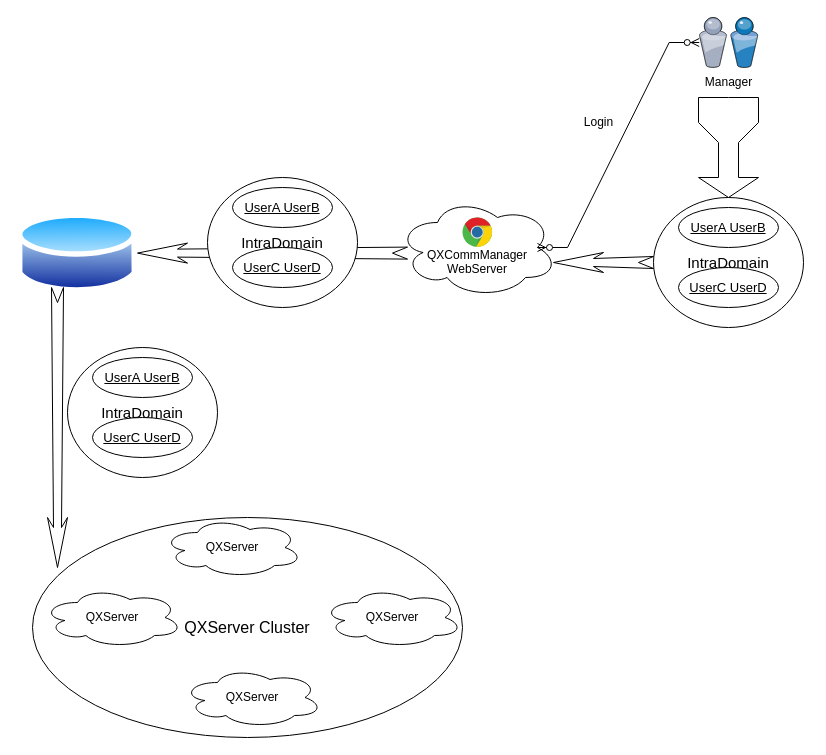
Image size: 826x755. Some labels were removed from this diagram. The centre of each missing label's shape, as x and y in pixels:
create intradomain for users: pixel 728 147
QXCommManager (Back End): pixel 77 252
